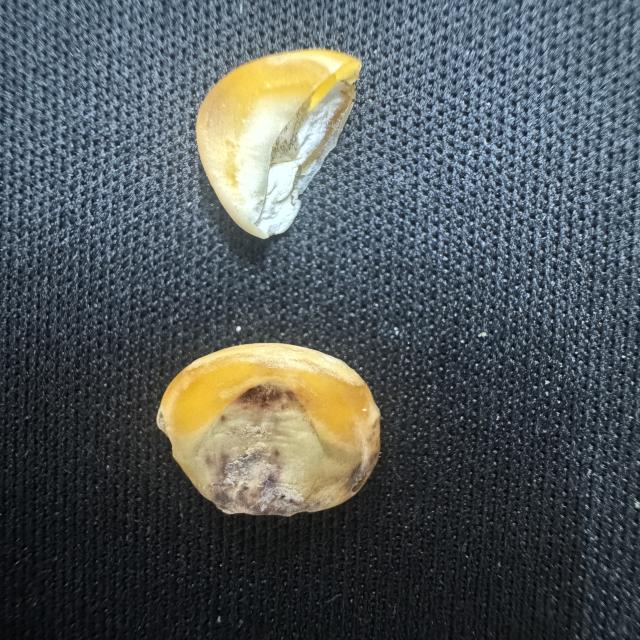Bad-Seed: (144, 335, 392, 531), (193, 44, 382, 256)
